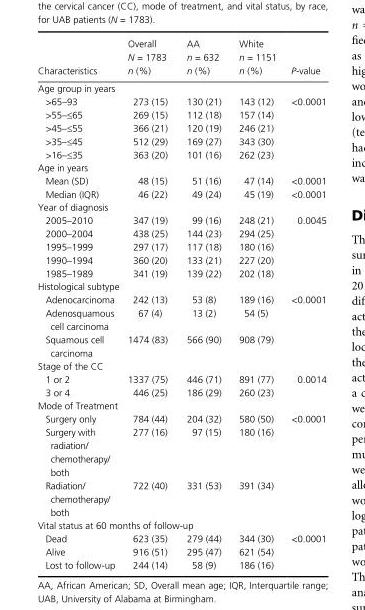table: (36, 37, 325, 570)
table column: (36, 37, 120, 570), (120, 37, 176, 570), (229, 37, 283, 570), (176, 37, 229, 570), (283, 37, 325, 570)
table column header: (36, 37, 325, 78)
table projected row header: (36, 78, 325, 94), (36, 160, 325, 173), (36, 200, 325, 213), (36, 279, 325, 292), (36, 359, 325, 372), (36, 398, 325, 411), (36, 518, 325, 531)
table row: (36, 424, 325, 478), (36, 37, 325, 78), (36, 478, 325, 518), (36, 305, 325, 332), (36, 332, 325, 359), (36, 78, 325, 94), (36, 133, 325, 147), (36, 173, 325, 187), (36, 239, 325, 253), (36, 544, 325, 558), (36, 94, 325, 107), (36, 107, 325, 120), (36, 120, 325, 133), (36, 147, 325, 160), (36, 160, 325, 173), (36, 187, 325, 200), (36, 200, 325, 213), (36, 213, 325, 226), (36, 226, 325, 239), (36, 253, 325, 266), (36, 266, 325, 279), (36, 279, 325, 292), (36, 292, 325, 305), (36, 359, 325, 372), (36, 372, 325, 385), (36, 385, 325, 398), (36, 398, 325, 411), (36, 411, 325, 424), (36, 518, 325, 531), (36, 531, 325, 544), (36, 558, 325, 570)
table spanning cell: (283, 411, 325, 518), (283, 292, 325, 359), (283, 94, 325, 160), (283, 213, 325, 279), (283, 531, 325, 570), (283, 372, 325, 398)
